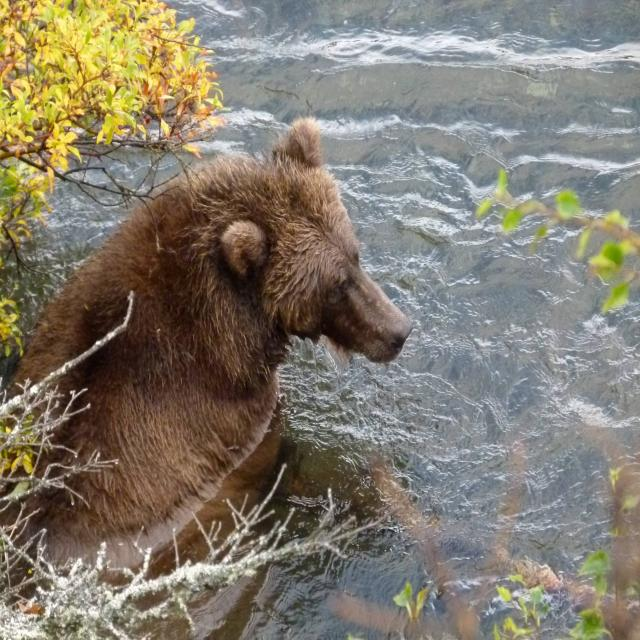bear face: (14, 118, 412, 569)
